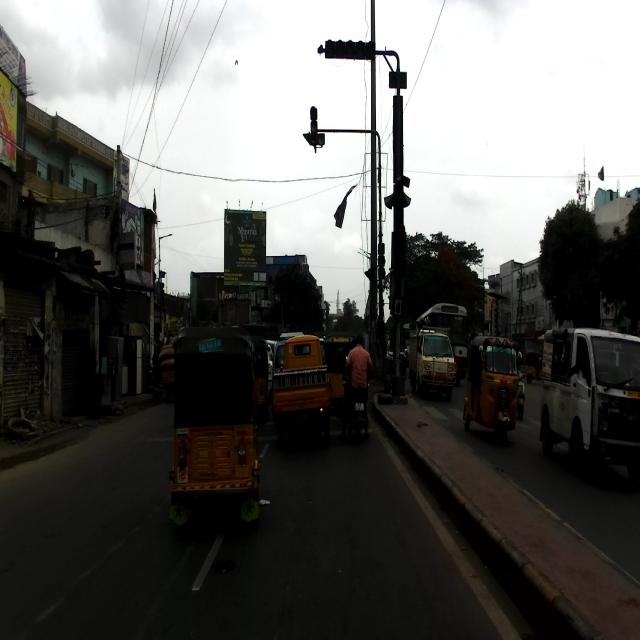autorickshaw: (167, 326, 262, 536), (270, 334, 331, 448), (462, 334, 522, 443)
motorcycle: (340, 374, 368, 442)
truck: (538, 326, 639, 488)
